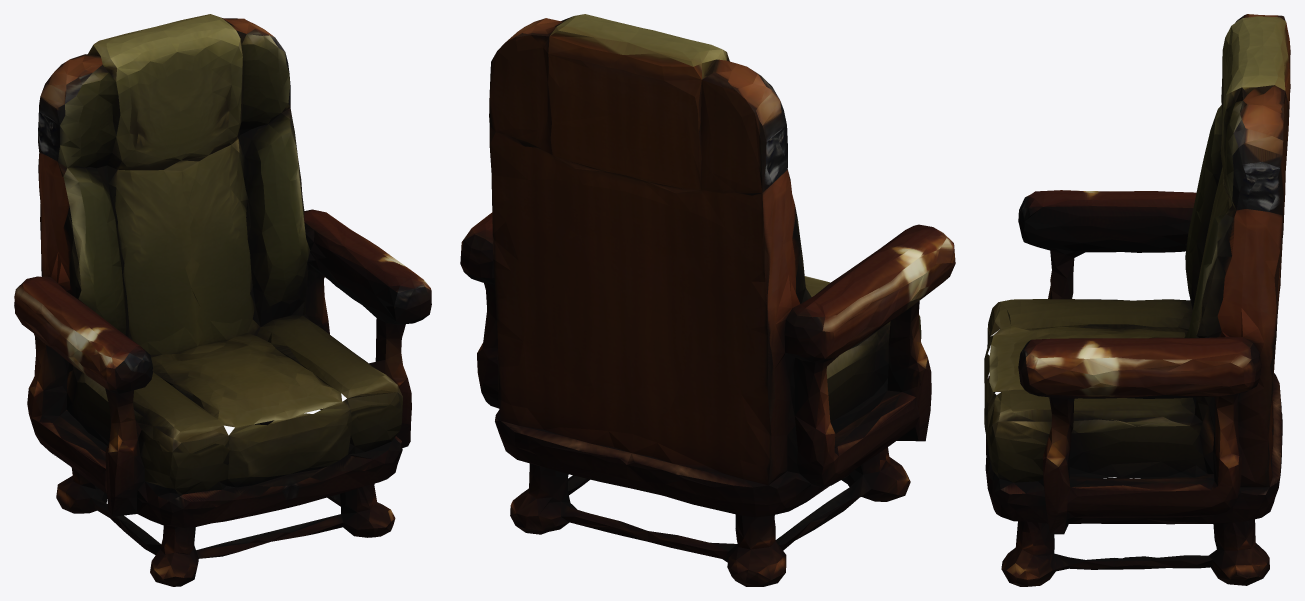
File: seat-executive.glb
The picture shows the model from 3 angles, left to right: view 1: azimuth 30°, elevation 25°; view 2: azimuth 150°, elevation 25°; view 3: azimuth 270°, elevation 25°; orthographic projection. The views are drawn at different scales.
Parts seen in each view (by area): view 1: geometry_0.003; view 2: geometry_0.003; view 3: geometry_0.003.
Part boxes in pixels (x1,y1,x2,y2): geometry_0.003: (14,14,431,586); geometry_0.003: (460,14,955,586); geometry_0.003: (984,14,1290,586).
Size of the model in its own units: 0.7635 by 0.997 by 0.5687.
Materials: 1 (1 with a texture image).
